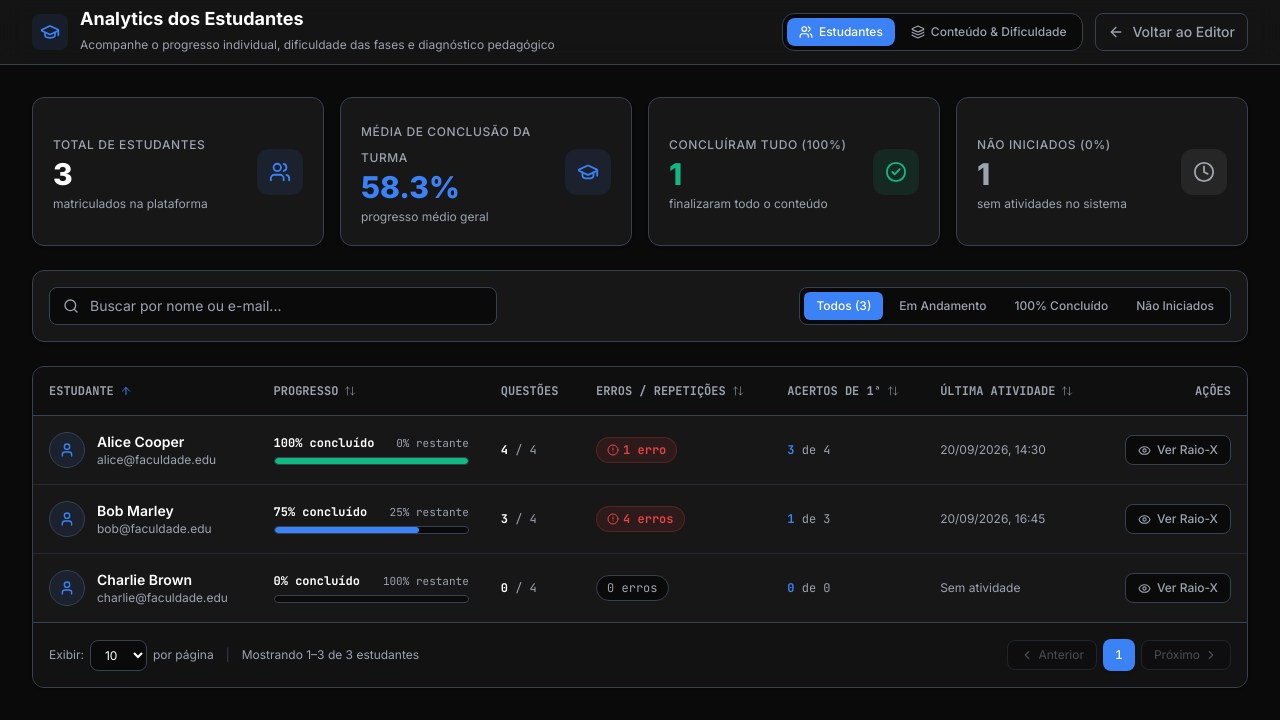
Test case: StudentAnalyticsDashboard Interface (SPEC-007 v2.8.0 - TDD Fase Vermelha) › deve abrir o modal de Raio-X ao clicar no estudante e exibir o detalhamento de fases e questões
The width and height of the screenshot is (1280, 720).
Check: the text "Alice Cooper" is shown, box left=97, top=433, right=184, bottom=450
Step 1. Click the button "Ver Raio-X" in the row of "Alice Cooper" → (1178, 450), box left=1125, top=435, right=1231, bottom=465
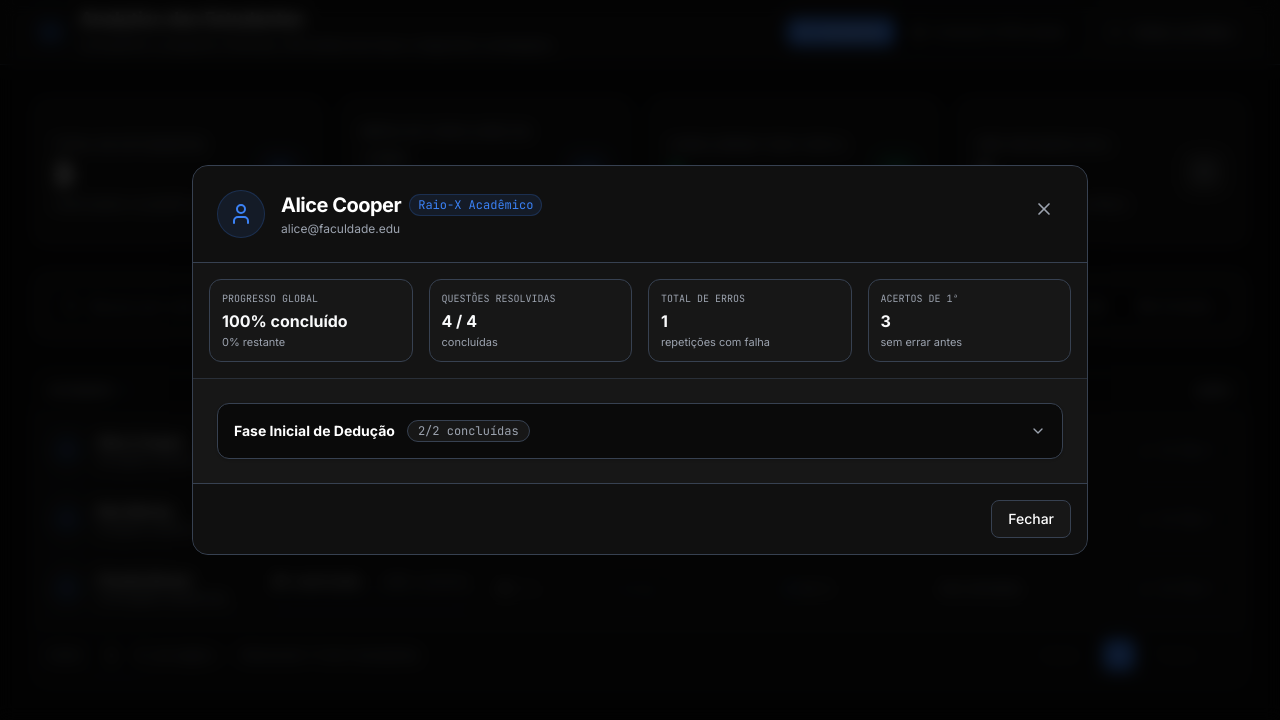
Check: the text "acertou de primeira" is not shown
Check: the dialog is shown
Check: the heading "Fase Inicial de Dedução" is shown, box left=234, top=422, right=395, bottom=442
Step 2. Click the button "Fase Inicial de Dedução 2/2 concluídas" → (314, 431), box left=218, top=404, right=1062, bottom=458
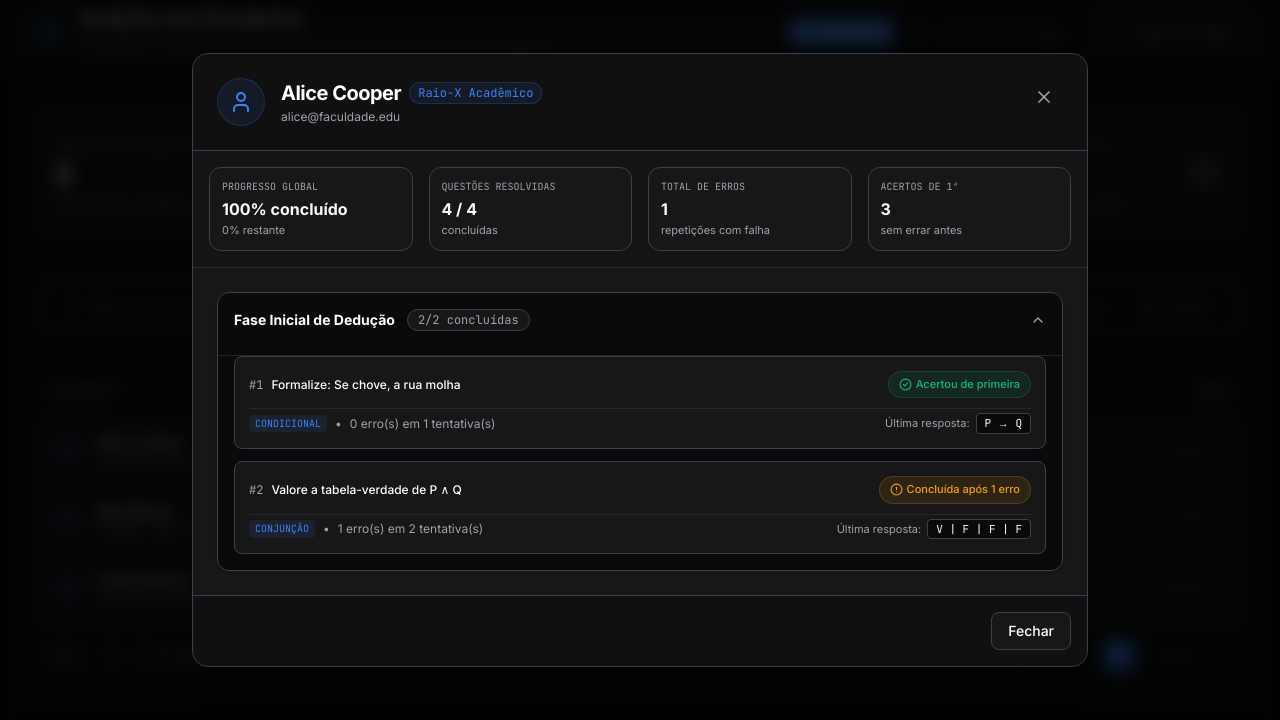
Check: the button "Fase Inicial de Dedução 2/2 concluídas" is expanded, box left=218, top=293, right=1062, bottom=347
Check: the text "Acertou de primeira" is shown, box left=916, top=376, right=1020, bottom=393
Check: the text "Concluída após 1 erro" is shown, box left=907, top=481, right=1020, bottom=499
